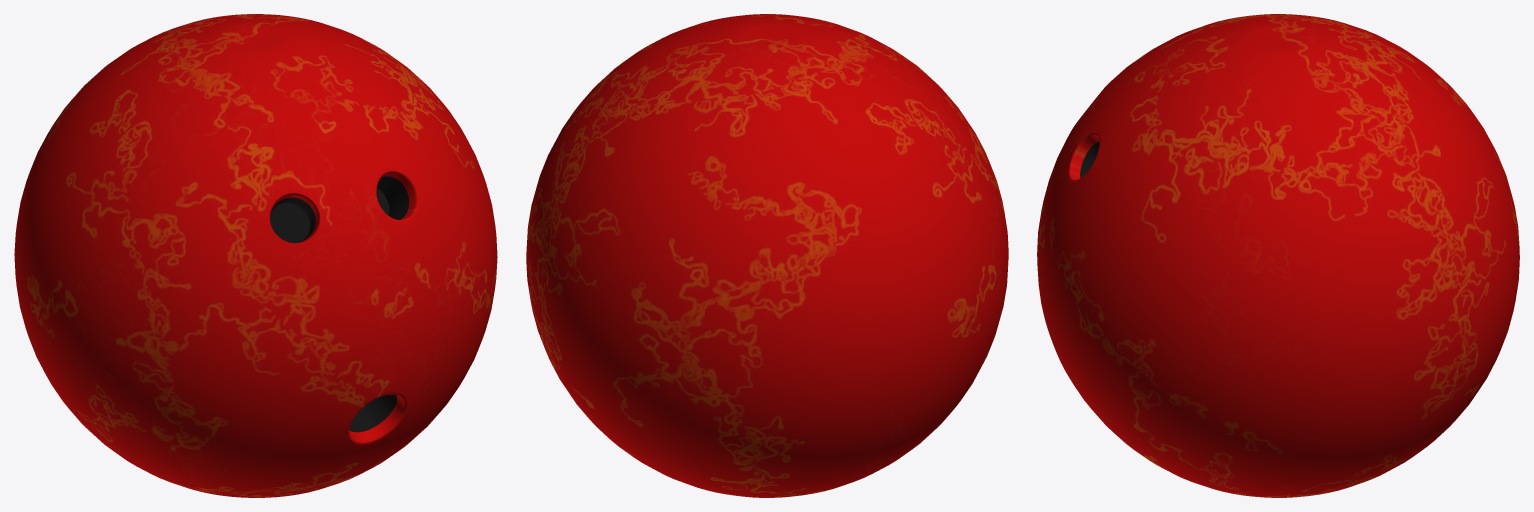
The model's file is bowling_ball.glb.
3 renders of one model, left to right at view 1: azimuth 30°, elevation 25°; view 2: azimuth 150°, elevation 25°; view 3: azimuth 270°, elevation 25°, orthographic.
Parts seen in each view (by area): view 1: ball.Shape; view 2: ball.Shape; view 3: ball.Shape.
Boxes of the visible parts, x1=… form: ball.Shape: x1=14, y1=14, x2=497, y2=497; ball.Shape: x1=526, y1=14, x2=1008, y2=497; ball.Shape: x1=1037, y1=14, x2=1519, y2=497.
Bounding box in the file's own units: 0.2398 × 0.2399 × 0.2399.
Materials: 1 (1 with a texture image).
